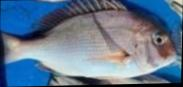fish: (1, 0, 175, 79)
